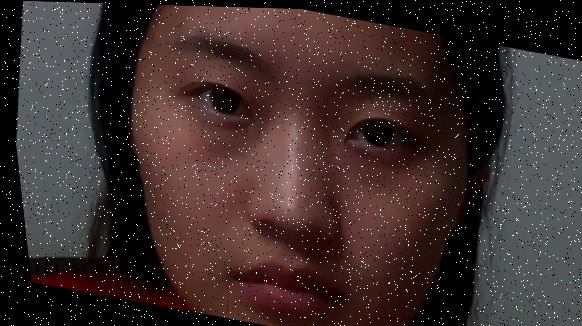eye: (355, 111, 393, 148), (204, 80, 242, 116)
iris: (341, 111, 407, 149), (190, 79, 251, 116)
